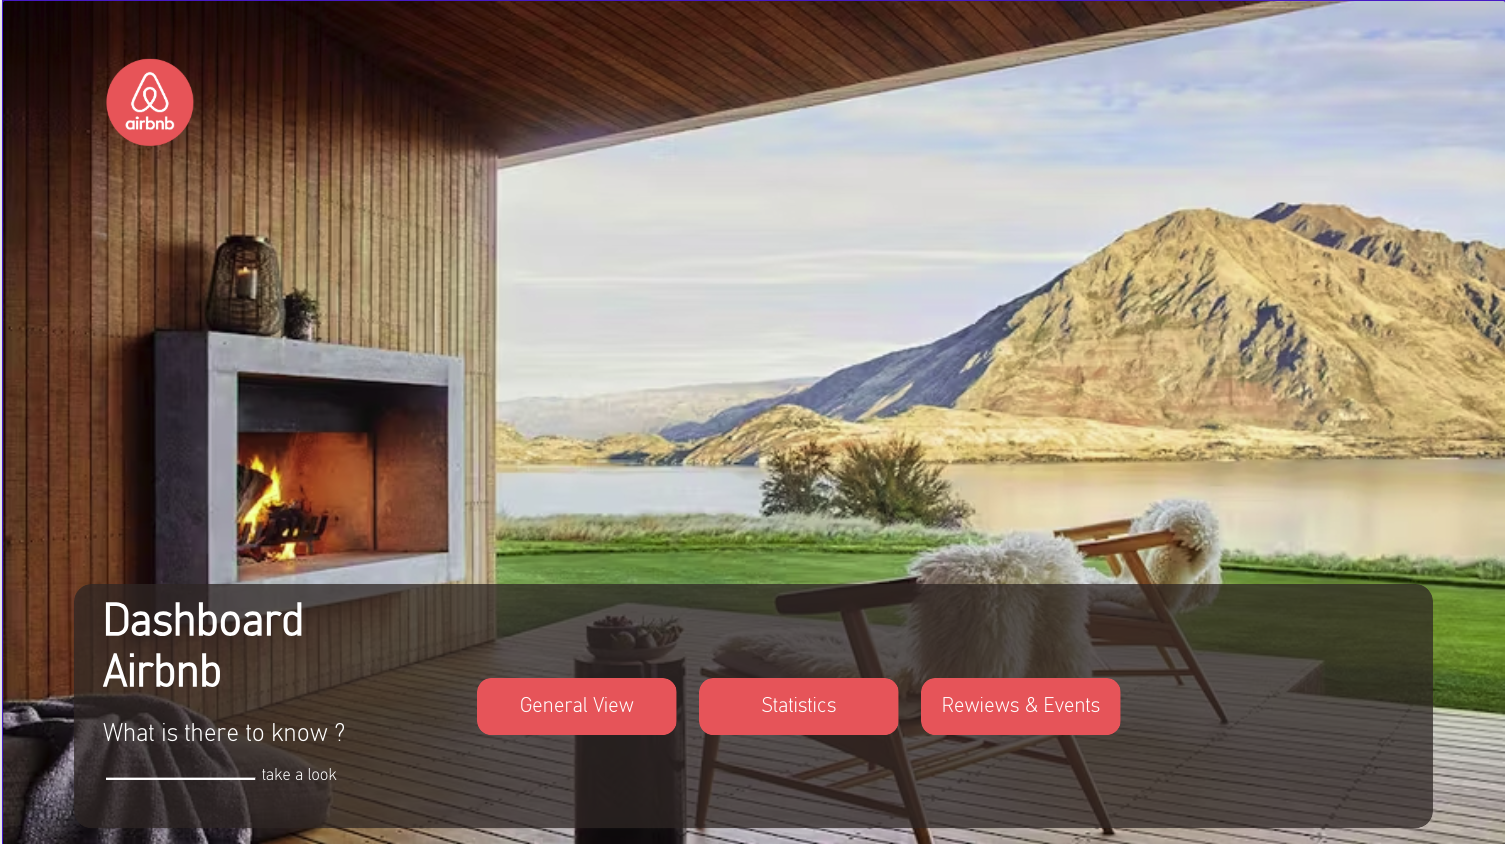

This screenshot's page, from the dashboard's own definition file:
{"tool":"powerbi","page":{"name":"Accueil","canvas":[1280,720],"ordinal":0},"visuals":[{"type":"shape","box":[61.3,497,1157.4,208.1],"z":0},{"type":"textbox","box":[80.7,504.8,211.1,104.1],"z":1000},{"type":"image","box":[80.7,44.7,90.5,83.6],"z":2000},{"type":"textbox","box":[80.7,608.9,224.7,54.5],"z":3000},{"type":"shape","box":[88.5,646.8,127.4,32.1],"z":4000},{"type":"textbox","box":[215.9,644.9,150.8,37],"z":5000},{"type":"actionButton","box":[404.6,576.8,170.2,48.6],"z":6000},{"type":"actionButton","box":[593.3,576.8,170.2,48.6],"z":6001},{"type":"actionButton","box":[782,576.8,170.2,48.6],"z":6002}]}

Visuals, with their boxes in screenshot pixels (x1, y1, x2, y2), scaled from the page's 1280x720 canvas onto the 1505x844 screenshot:
shape: x1=72, y1=583, x2=1433, y2=827
textbox: x1=95, y1=592, x2=343, y2=714
image: x1=95, y1=52, x2=201, y2=150
textbox: x1=95, y1=714, x2=359, y2=778
shape: x1=104, y1=758, x2=254, y2=796
textbox: x1=254, y1=756, x2=431, y2=799
actionButton: x1=476, y1=676, x2=676, y2=733
actionButton: x1=698, y1=676, x2=898, y2=733
actionButton: x1=919, y1=676, x2=1120, y2=733
